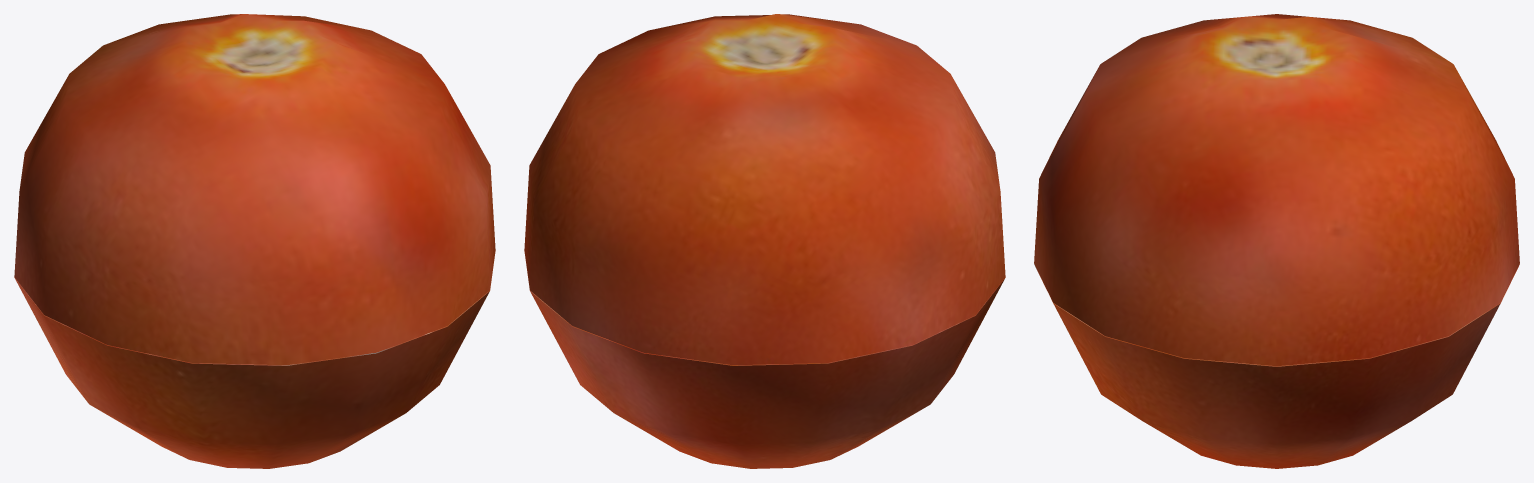
Rendered from TomatoOnion_tomatocut.fbx.
The picture shows the model from 3 angles, left to right: view 1: azimuth 30°, elevation 25°; view 2: azimuth 150°, elevation 25°; view 3: azimuth 270°, elevation 25°; orthographic projection.
Parts seen in each view (by area): view 1: tomato_top, tomato_bottom; view 2: tomato_top, tomato_bottom; view 3: tomato_top, tomato_bottom.
Boxes of the visible parts, left/top/right/bottom form: tomato_top: left=14, top=14, right=495, bottom=365; tomato_bottom: left=14, top=251, right=495, bottom=468; tomato_top: left=524, top=14, right=1005, bottom=365; tomato_bottom: left=524, top=251, right=1005, bottom=468; tomato_top: left=1034, top=14, right=1519, bottom=366; tomato_bottom: left=1034, top=264, right=1519, bottom=468.
Size of the model in its own units: 0.1242 by 0.1073 by 0.1242.
